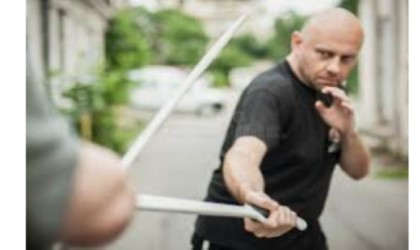baston_e: (123, 23, 246, 159), (134, 188, 244, 226)
baston_v: (230, 8, 251, 36), (290, 211, 311, 237)
